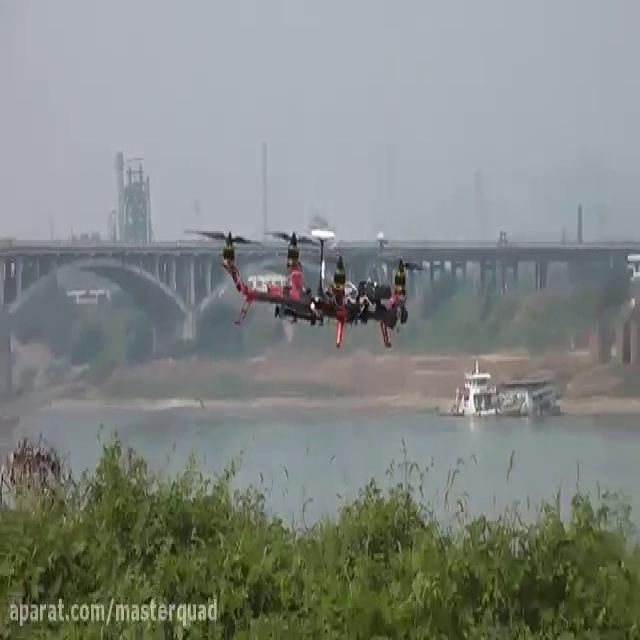drone: (182, 222, 428, 348)
